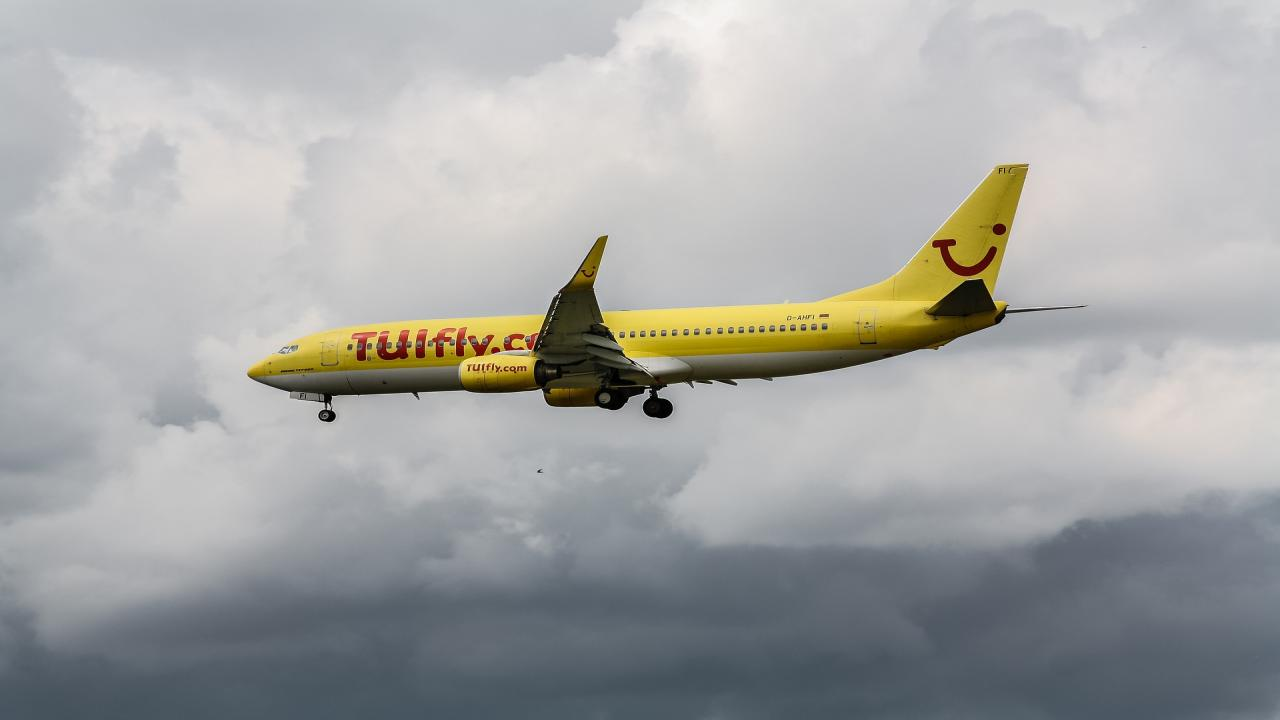Airplane: (228, 144, 1089, 445)
